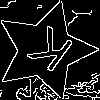K: (20, 25, 76, 81)
